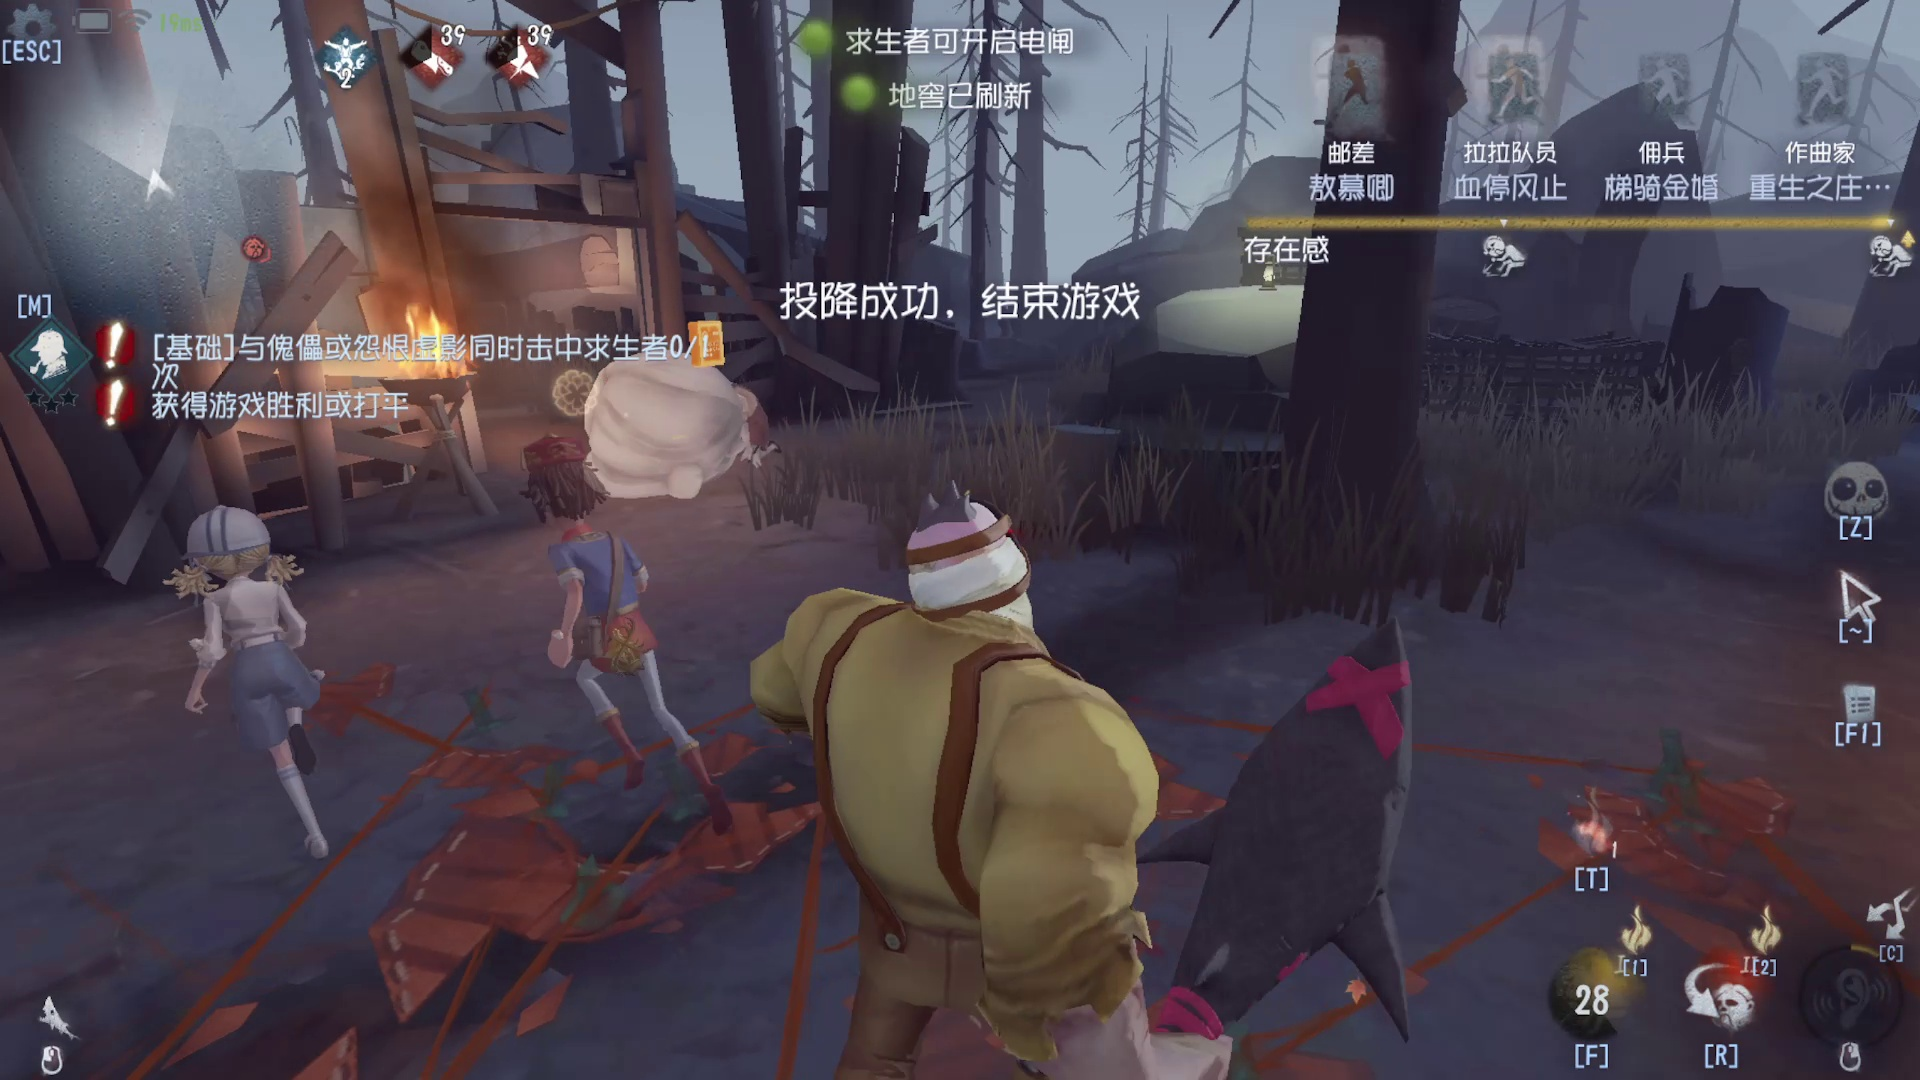设置: (1, 1, 102, 88)
